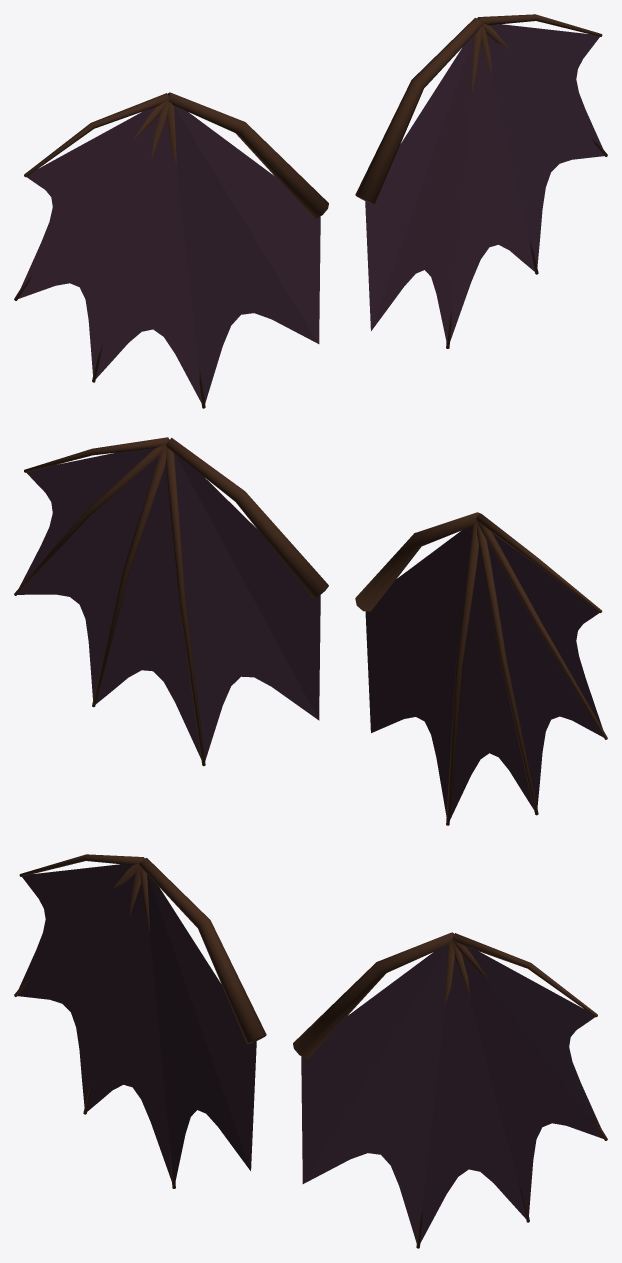
The model's file is bat_wings.glb.
3 renders of one model, top to bottom at view 1: azimuth 30°, elevation 25°; view 2: azimuth 150°, elevation 25°; view 3: azimuth 330°, elevation 25°, orthographic.
Visible parts, largest first — view 1: bat_wings; view 2: bat_wings; view 3: bat_wings.
Boxes of the visible parts, bbox=[...] form: bat_wings: bbox=[14, 14, 607, 408]; bat_wings: bbox=[14, 437, 607, 825]; bat_wings: bbox=[14, 854, 607, 1248].
Bounding box in the file's own units: 1.61 × 0.833 × 0.1786.
